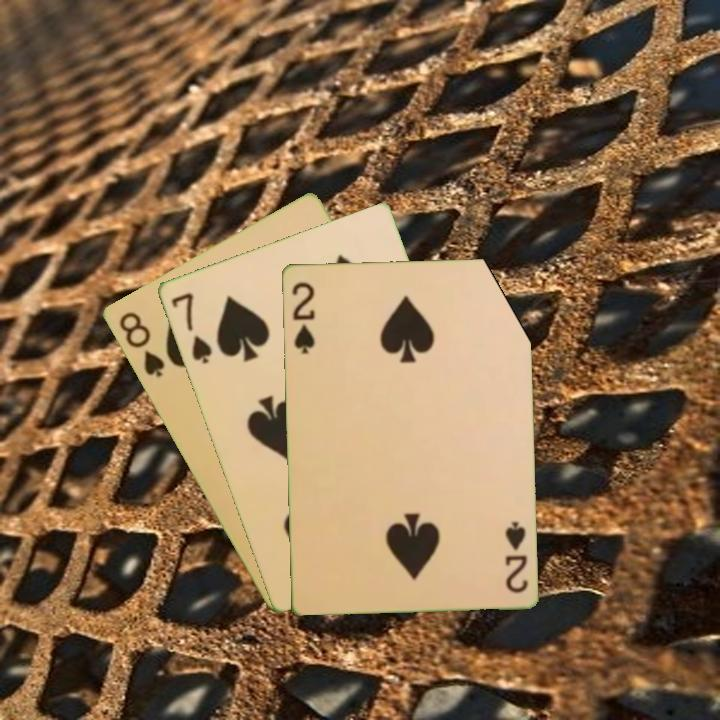2s: (501, 517, 530, 596), (288, 278, 317, 356)
7s: (167, 289, 215, 367)
8s: (115, 308, 167, 380)
